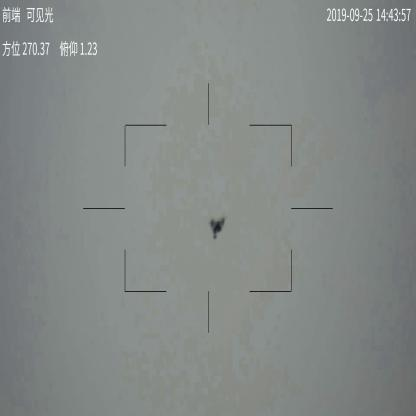uav: (207, 217, 229, 242)
